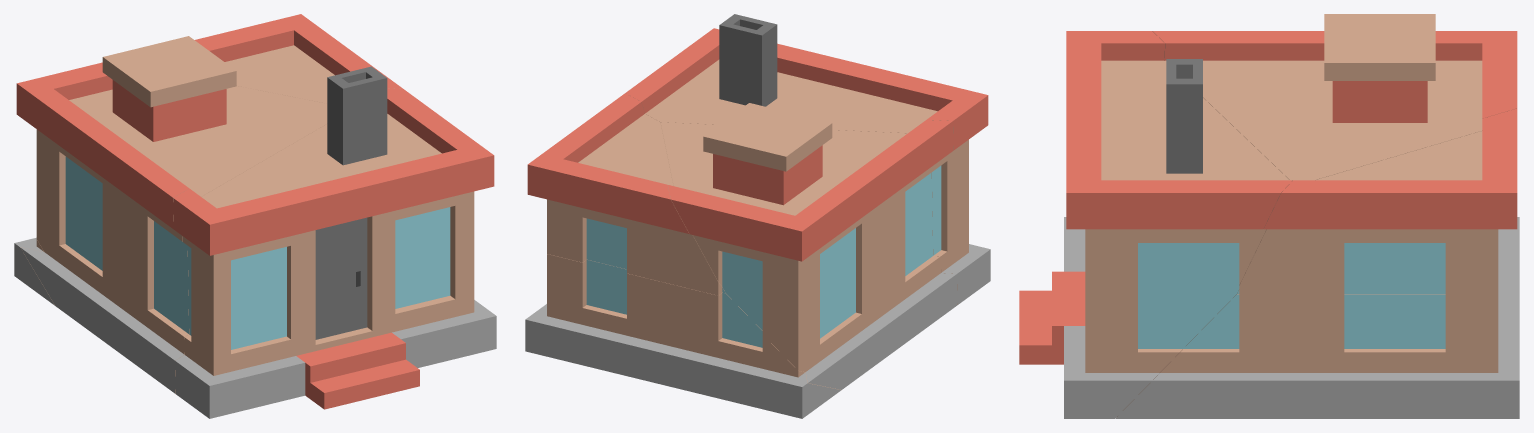
The model's file is House 1.1 Fractured.fbx.
3 views of the same model, side by side, from view 1: azimuth 30°, elevation 25°; view 2: azimuth 150°, elevation 25°; view 3: azimuth 270°, elevation 25° (orthographic). The views are drawn at different scales.
Parts seen in each view (by area): view 1: House_Type1_1_Breaking_cell.002, House_Type1_1_Breaking_cell, House_Type1_1_Breaking_cell.001, House_Type1_1_Breaking_cell.003; view 2: House_Type1_1_Breaking_cell, House_Type1_1_Breaking_cell.002, House_Type1_1_Breaking_cell.003, House_Type1_1_Breaking_cell.001; view 3: House_Type1_1_Breaking_cell.002, House_Type1_1_Breaking_cell.003, House_Type1_1_Breaking_cell, House_Type1_1_Breaking_cell.001.
Part boxes in pixels (x1,y1,x2,y2): House_Type1_1_Breaking_cell.002: [173, 66, 496, 418]; House_Type1_1_Breaking_cell: [16, 36, 327, 393]; House_Type1_1_Breaking_cell.001: [195, 14, 401, 103]; House_Type1_1_Breaking_cell.003: [14, 237, 54, 305]; House_Type1_1_Breaking_cell: [660, 103, 957, 389]; House_Type1_1_Breaking_cell.002: [625, 14, 990, 304]; House_Type1_1_Breaking_cell.003: [525, 254, 841, 418]; House_Type1_1_Breaking_cell.001: [527, 93, 725, 295]; House_Type1_1_Breaking_cell.002: [1019, 31, 1292, 418]; House_Type1_1_Breaking_cell.003: [1115, 217, 1519, 418]; House_Type1_1_Breaking_cell: [1152, 14, 1517, 180]; House_Type1_1_Breaking_cell.001: [1237, 108, 1517, 297].
Bounding box in the file's own units: 364 × 309 × 471.
